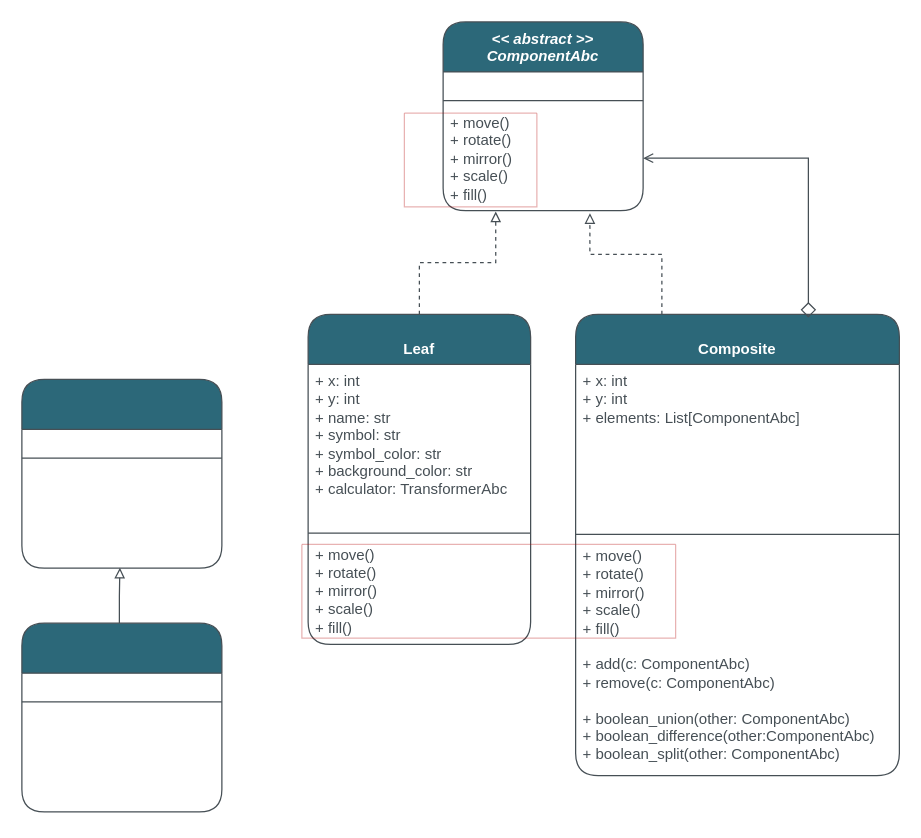
This 921x838 diagram has some shape labels left out. The shapes that lost their labels are listed below. From the top down, each one's centre as x and y in pixels, then its label:
At (121,473): "<< abstract >> TransformertAbc".
At (121,717): "Transformer".
